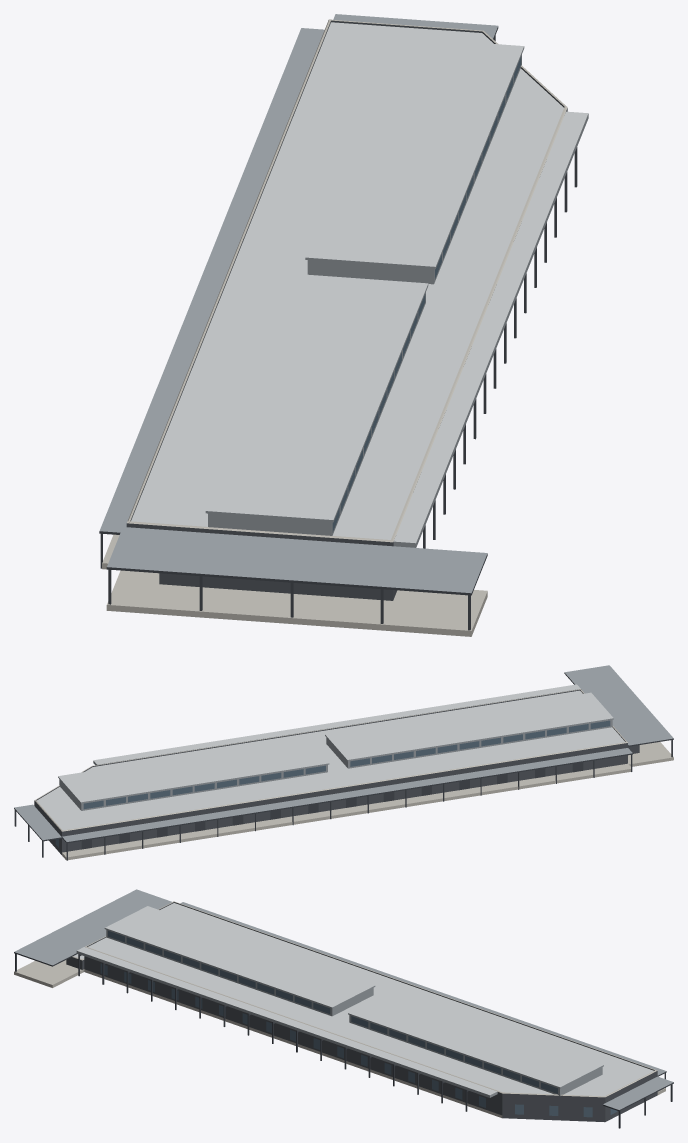
3 views of the same model, one above another, from view 1: azimuth 30°, elevation 25°; view 2: azimuth 150°, elevation 25°; view 3: azimuth 270°, elevation 25° (orthographic). The views are drawn at different scales.
Parts seen in each view (by area): view 1: gama-goat-building; view 2: gama-goat-building; view 3: gama-goat-building.
Part boxes in pixels (left/top/right/bottom): gama-goat-building: left=99, top=14, right=588, bottom=636; gama-goat-building: left=14, top=665, right=673, bottom=860; gama-goat-building: left=14, top=889, right=673, bottom=1128.
Size of the model in its own units: 150 by 10.9 by 192.
